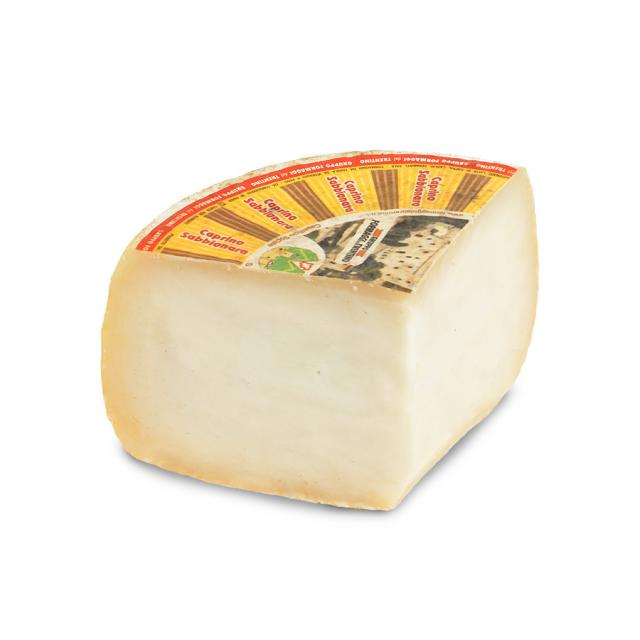Cheese: (107, 127, 556, 525)
